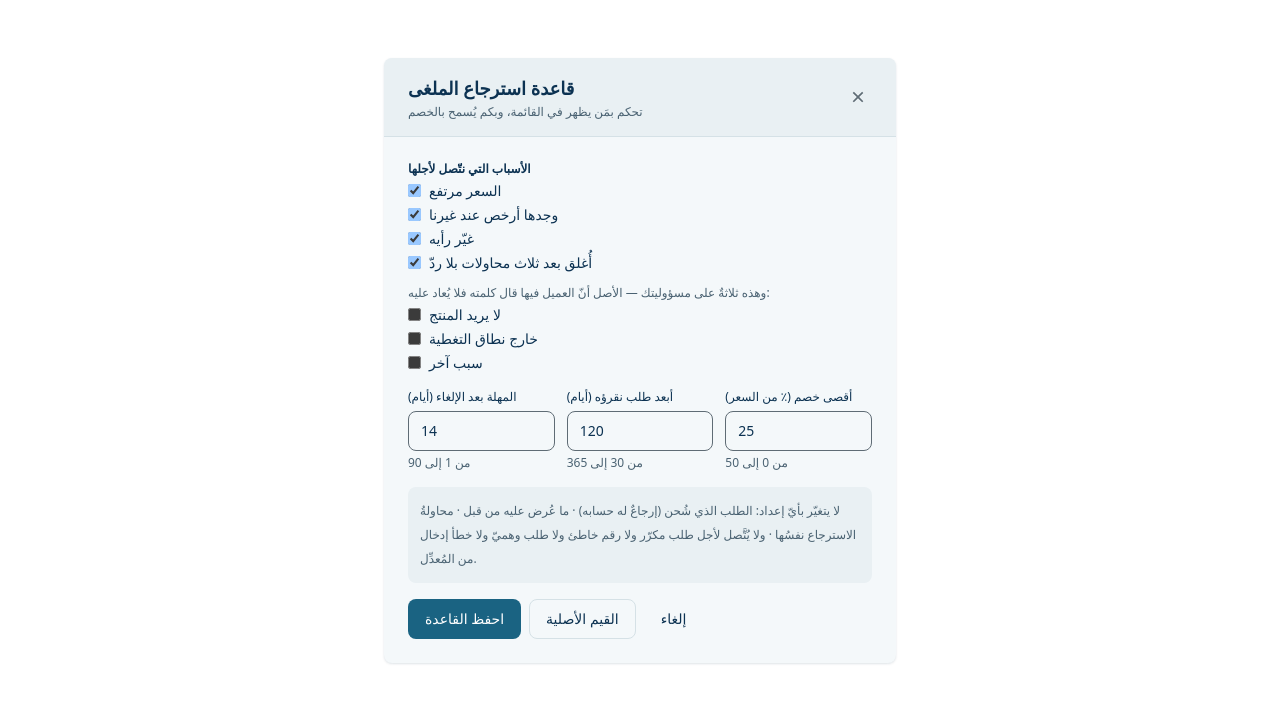
Test case: what it refuses before it sends › and a cooling of zero: the sentence names the field and the limit, and nothing is sent
The image size is (1280, 720).
Replace the text in the field labelled "المهلة بعد الإلغاء (أيام)" with "0" at [481, 430], box [408,410,555,450]
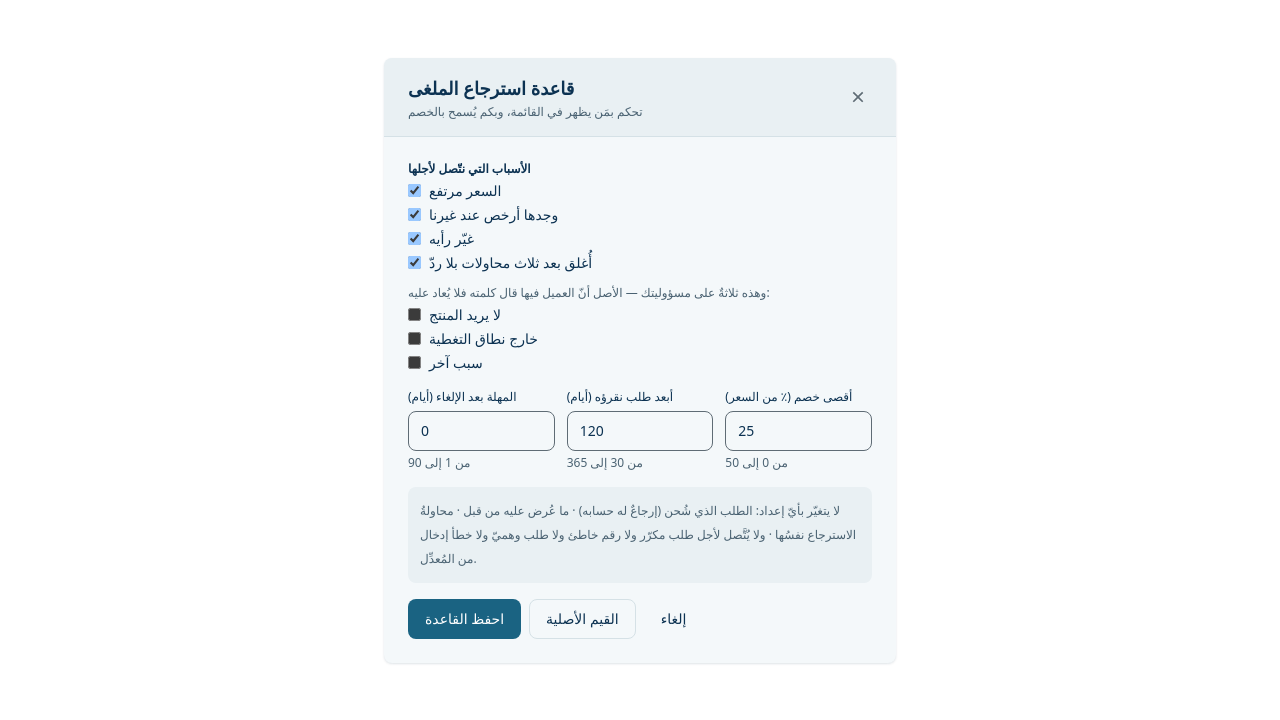
Click the button "احفظ القاعدة".
click(465, 618)  # box [408,598,521,638]
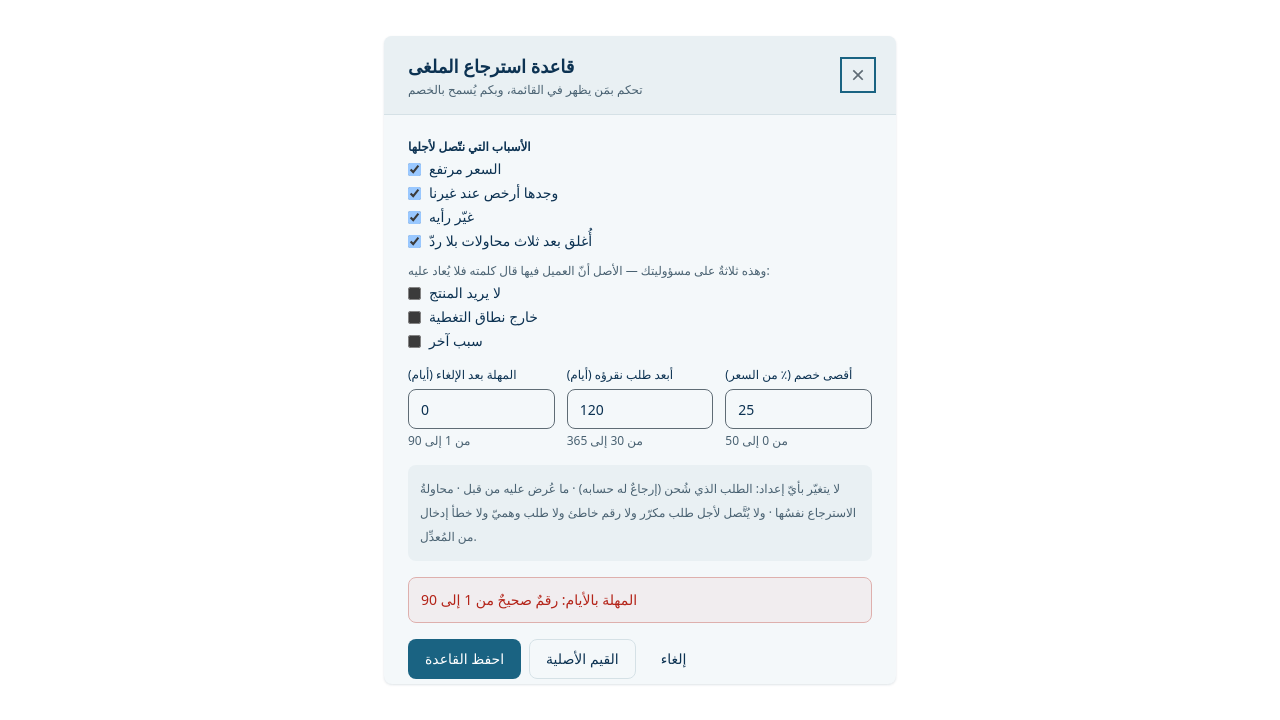
expect the message reads "المهلة بالأيام: رقمٌ صحيحٌ من 1 إلى 90": met, box [421,590,637,609]
